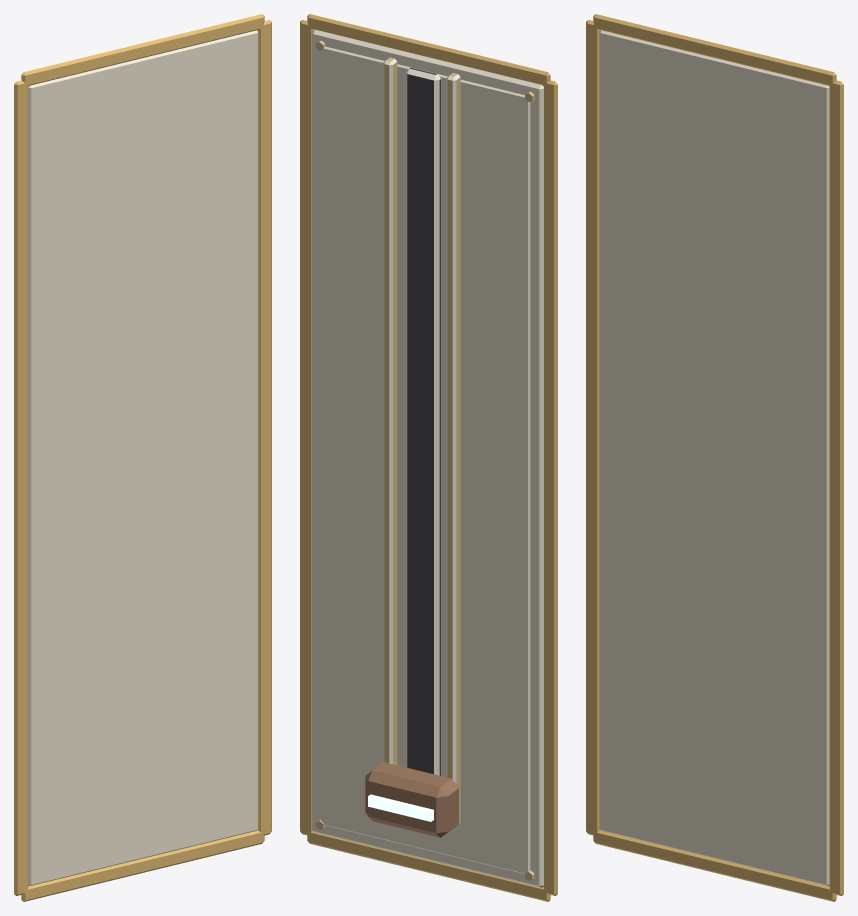
Rendered from Ctl_Slider_1x3.fbx.
The picture shows the model from 3 angles, left to right: view 1: azimuth 30°, elevation 25°; view 2: azimuth 150°, elevation 25°; view 3: azimuth 330°, elevation 25°; orthographic projection.
Visible parts, largest first — view 1: Ctl_Slider_1x3, Ctl_Slider_1x3_Frame; view 2: Ctl_Slider_1x3, Ctl_Slider_1x3_Frame, Moving.014; view 3: Ctl_Slider_1x3, Ctl_Slider_1x3_Frame.
Boxes of the visible parts, x1,y1,x2,y2 form: Ctl_Slider_1x3: (28,30,258,885); Ctl_Slider_1x3_Frame: (14,14,271,901); Ctl_Slider_1x3: (311,29,543,887); Ctl_Slider_1x3_Frame: (300,14,557,901); Moving.014: (365,762,458,837); Ctl_Slider_1x3: (599,30,829,885); Ctl_Slider_1x3_Frame: (586,14,843,901).
Bounding box in the file's own units: 1.06 × 3.26 × 0.22.
